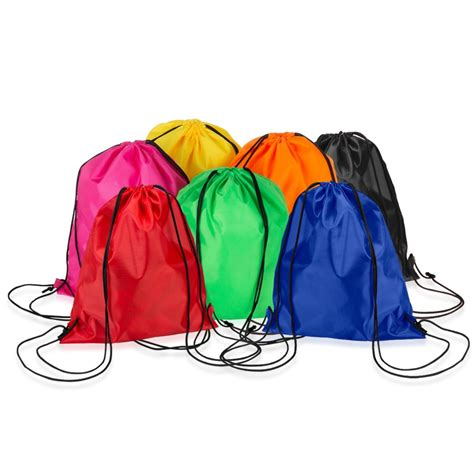nylon: (54, 117, 428, 346)
